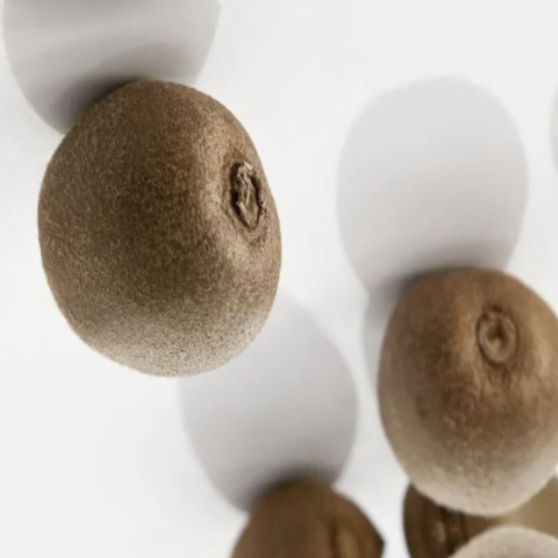kiwi: (0, 39, 330, 425), (324, 227, 558, 541)
